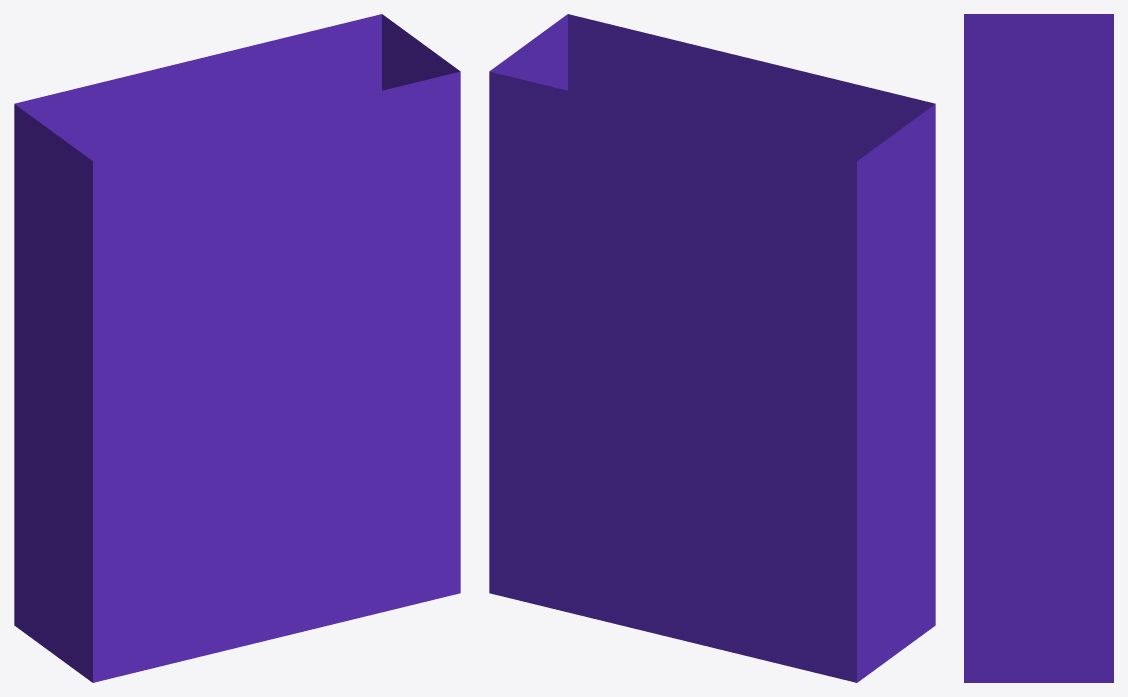
Rendered from magazine_02.fbx.
3 views of the same model, side by side, from view 1: azimuth 30°, elevation 25°; view 2: azimuth 150°, elevation 25°; view 3: azimuth 270°, elevation 25° (orthographic). The views are drawn at different scales.
Parts seen in each view (by area): view 1: clip_1; view 2: clip_1; view 3: clip_1.
Boxes of the visible parts, left/top/right/bottom form: clip_1: left=14, top=14, right=460, bottom=682; clip_1: left=489, top=14, right=935, bottom=682; clip_1: left=964, top=14, right=1113, bottom=682.
Bounding box in the file's own units: 244 × 330 × 90.11.
